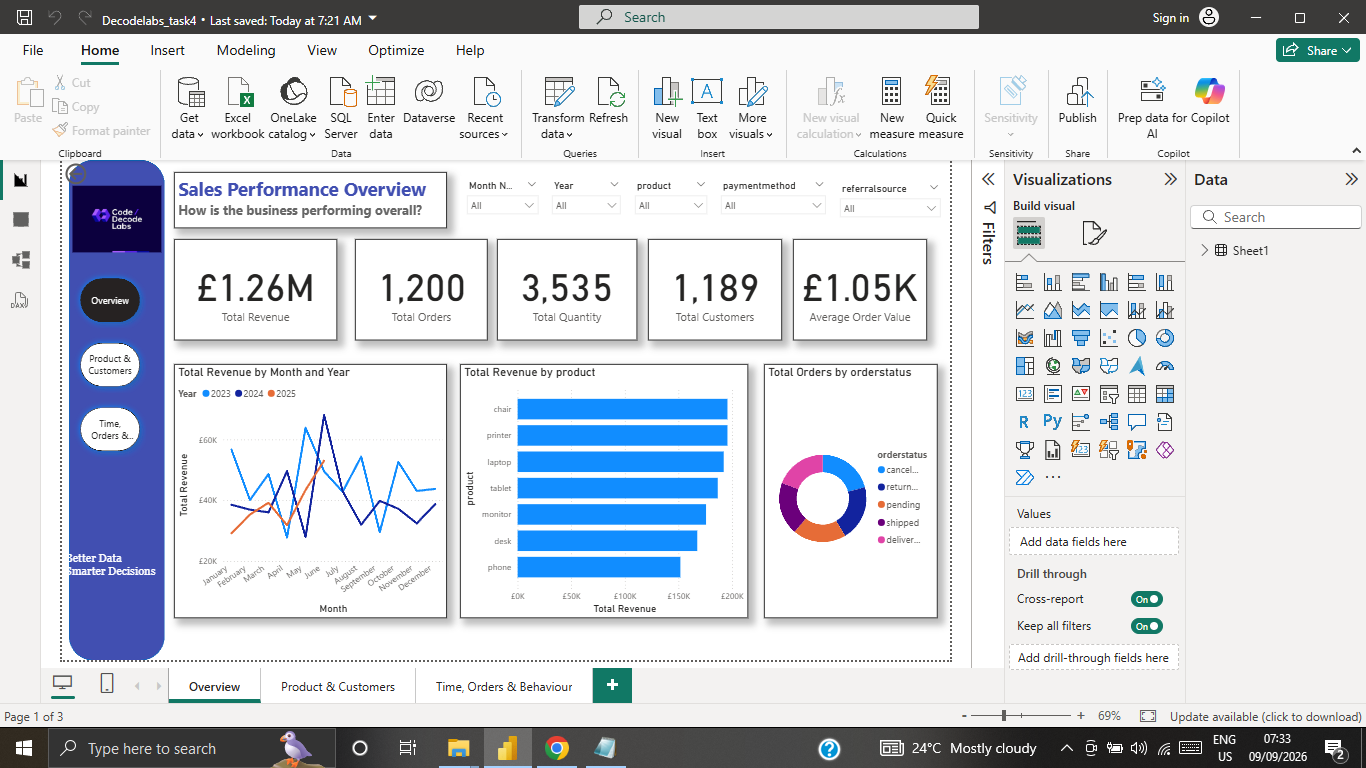

The page's visual inventory and layout, read from the dashboard file:
{"tool":"powerbi","page":{"name":"Overview","canvas":[1280,720],"ordinal":0},"visuals":[{"type":"shape","box":[10.1,0,137.7,720.6],"z":0},{"type":"textbox","box":[161.3,16.8,393.1,80.6],"z":1000},{"type":"slicer","fields":{"Values":["Sheet1.Month Name"]},"box":[572.8,23.5,122.6,73.9],"z":2000},{"type":"slicer","fields":{"Values":["Sheet1.Year"]},"box":[695.4,23.5,119.3,73.9],"z":3000},{"type":"slicer","fields":{"Values":["Sheet1.product"]},"box":[814.7,23.5,124.3,63.8],"z":4000},{"type":"slicer","fields":{"Values":["Sheet1.paymentmethod"]},"box":[939,23.5,171.3,75.6],"z":5000},{"type":"slicer","fields":{"Values":["Sheet1.referralsource"]},"box":[1110.3,26.9,164.6,60.5],"z":6000},{"type":"card","fields":{"Values":["Sheet1.Total Revenue"]},"box":[161.3,114.2,235.2,146.1],"z":7000},{"type":"actionButton","box":[0,0,100,40],"z":8000},{"type":"card","fields":{"Values":["Sheet1.Total Orders"]},"box":[421.6,114.2,191.5,146.1],"z":9000},{"type":"card","fields":{"Values":["Sheet1.Total Quantity"]},"box":[626.6,114.2,201.6,146.1],"z":10000},{"type":"card","fields":{"Values":["Sheet1.Total Customers"]},"box":[843.3,114.2,193.2,146.1],"z":11000},{"type":"card","fields":{"Values":["Sheet1.Average Order Value"]},"box":[1053.2,114.2,193.2,146.1],"z":12000},{"type":"barChart","fields":{"Y":["Sheet1.Total Revenue"],"Category":["Sheet1.product"]},"box":[572.8,294,414.9,366.2],"z":13000},{"type":"lineChart","title":"Total Revenue by Month and Year","fields":{"Y":["Sheet1.Total Revenue"],"Series":["Sheet1.Year"],"Category":["Sheet1.Month Name"]},"box":[161.3,294,393.1,366.2],"z":14000},{"type":"donutChart","fields":{"Category":["Sheet1.orderstatus"],"Y":["Sheet1.Total Orders"]},"box":[1011.2,294,250.3,366.2],"z":15000},{"type":"image","box":[10.1,23.5,137.7,124.3],"z":16000},{"type":"pageNavigator","box":[16.8,161.3,104.1,267.1],"z":17000},{"type":"textbox","box":[0,559.4,161.3,60.5],"z":18000}]}

Visuals, with their boxes on the page's 1280x720 design canvas (x1, y1, x2, y2). These are canvas units, not pixel positions in the 1366x768 screenshot, which may show the page scaled, cropped or inside an application window:
shape: bbox(10, 0, 148, 721)
textbox: bbox(161, 17, 554, 97)
slicer - Sheet1.Month Name: bbox(573, 24, 695, 97)
slicer - Sheet1.Year: bbox(695, 24, 815, 97)
slicer - Sheet1.product: bbox(815, 24, 939, 87)
slicer - Sheet1.paymentmethod: bbox(939, 24, 1110, 99)
slicer - Sheet1.referralsource: bbox(1110, 27, 1275, 87)
card - Sheet1.Total Revenue: bbox(161, 114, 396, 260)
actionButton: bbox(0, 0, 100, 40)
card - Sheet1.Total Orders: bbox(422, 114, 613, 260)
card - Sheet1.Total Quantity: bbox(627, 114, 828, 260)
card - Sheet1.Total Customers: bbox(843, 114, 1036, 260)
card - Sheet1.Average Order Value: bbox(1053, 114, 1246, 260)
barChart - Sheet1.Total Revenue x Sheet1.product: bbox(573, 294, 988, 660)
"Total Revenue by Month and Year" lineChart: bbox(161, 294, 554, 660)
donutChart - Sheet1.orderstatus x Sheet1.Total Orders: bbox(1011, 294, 1262, 660)
image: bbox(10, 24, 148, 148)
pageNavigator: bbox(17, 161, 121, 428)
textbox: bbox(0, 559, 161, 620)
